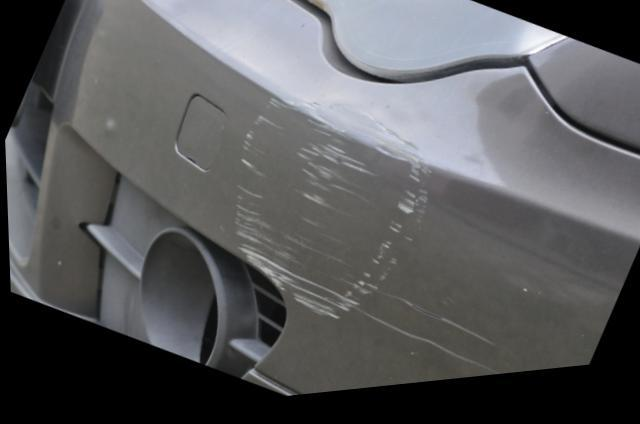scratch: (233, 98, 525, 386)
